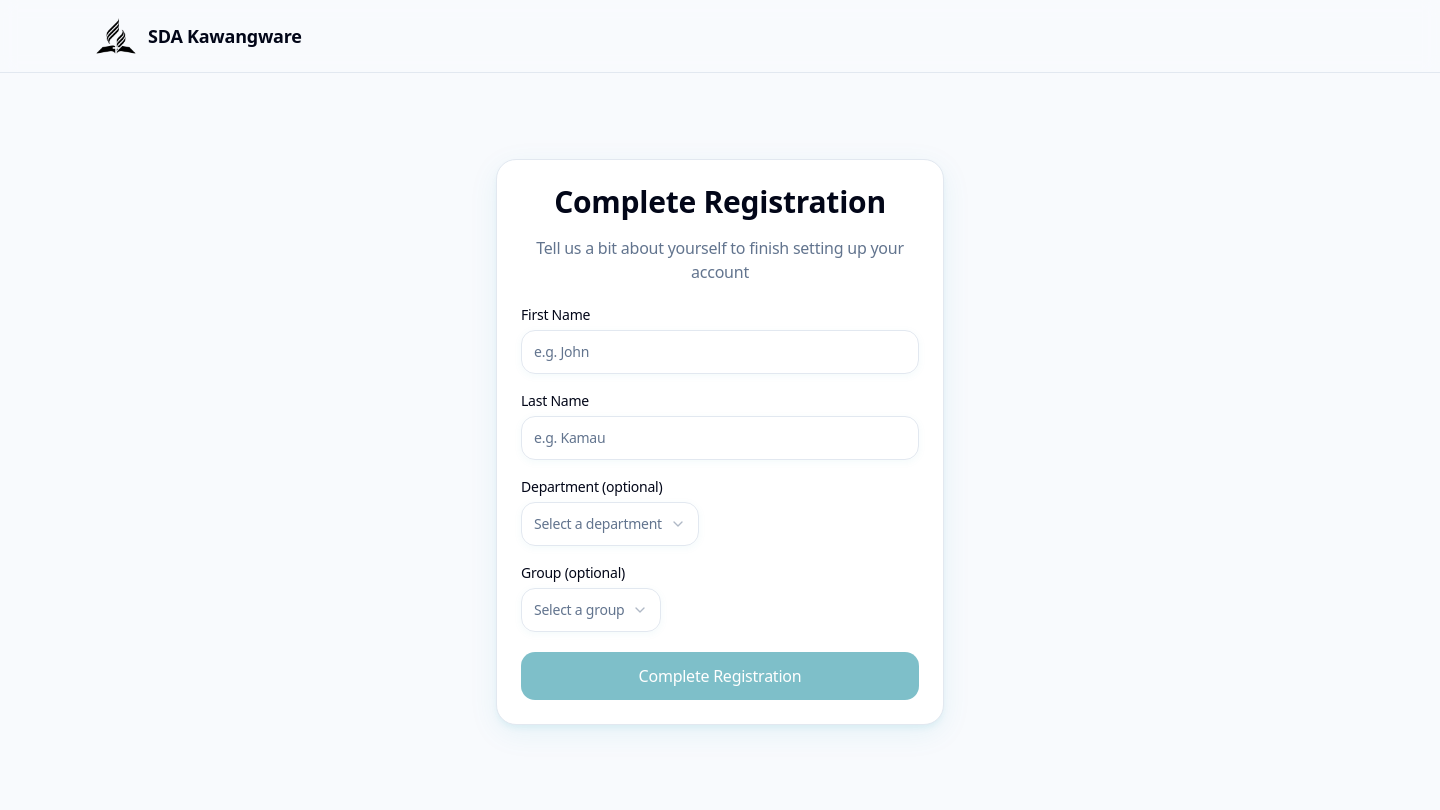
Test: RegisterPage › keeps submit disabled until both names are at least 2 characters
Expected: the button "Complete Registration" is disabled, [521, 652, 919, 700]
Type "Jo" into the field labelled "First Name" at (720, 352), box [521, 330, 919, 374]
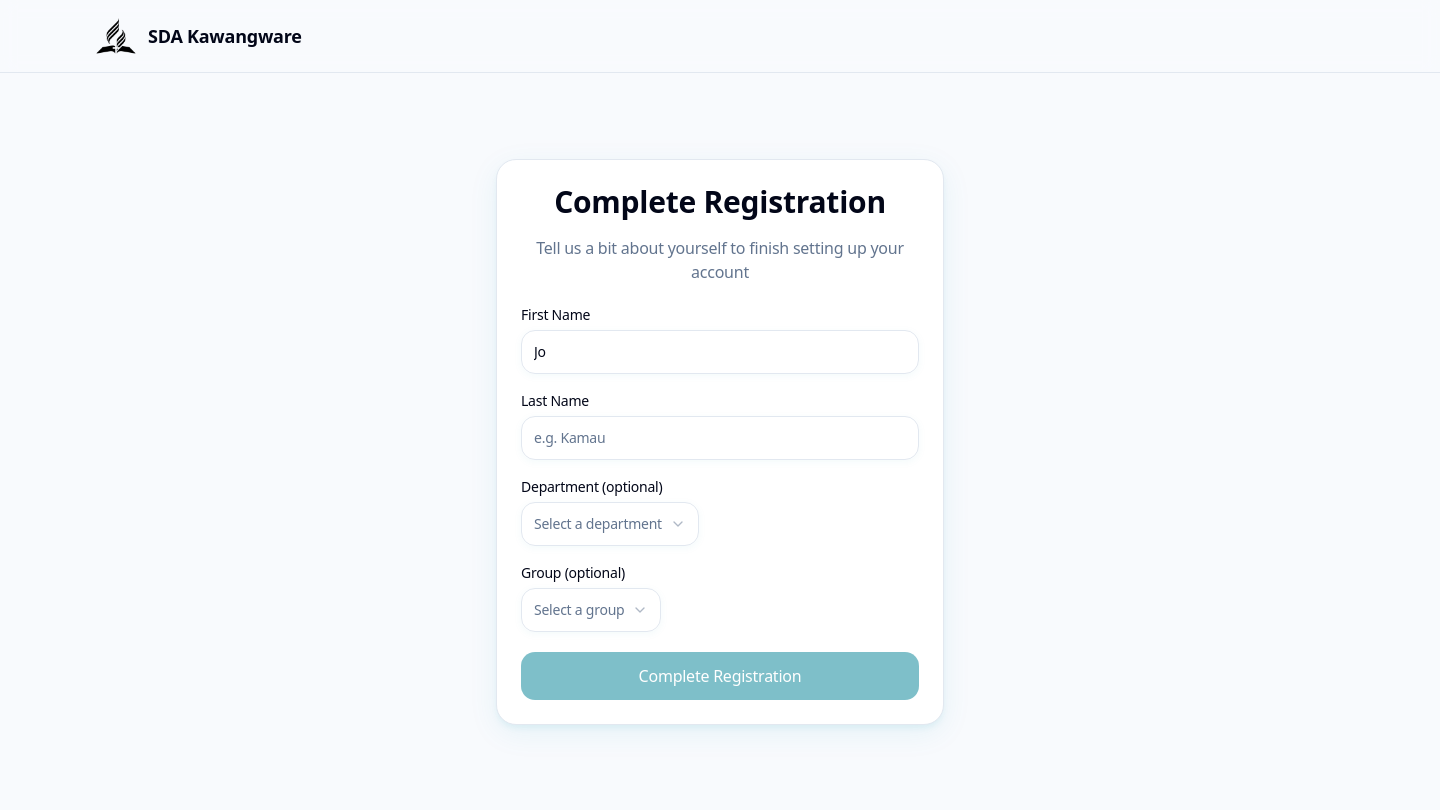
Type "Kamau" into the field labelled "Last Name" at (720, 438), box [521, 416, 919, 460]
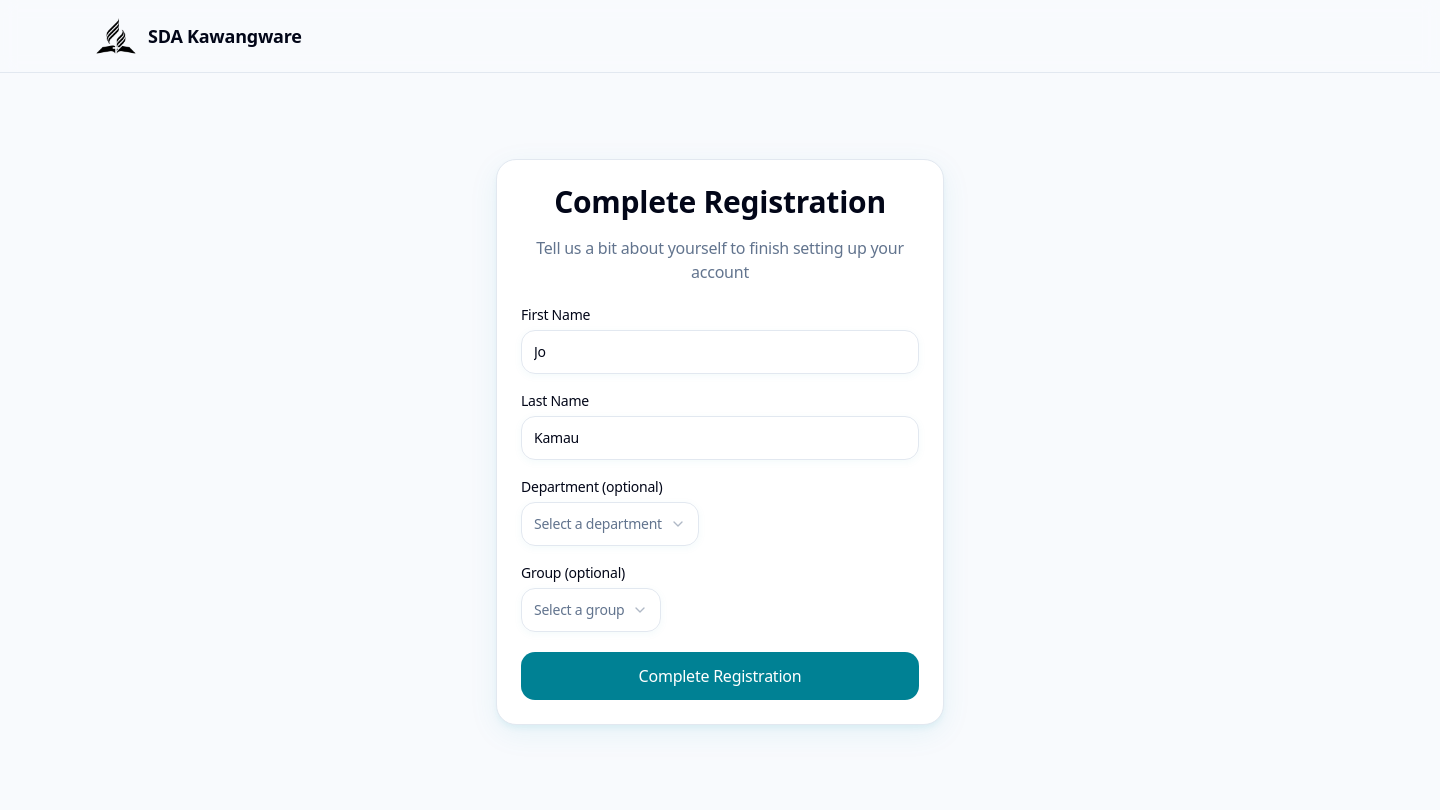
Expected: the button "Complete Registration" is enabled, [521, 652, 919, 700]
